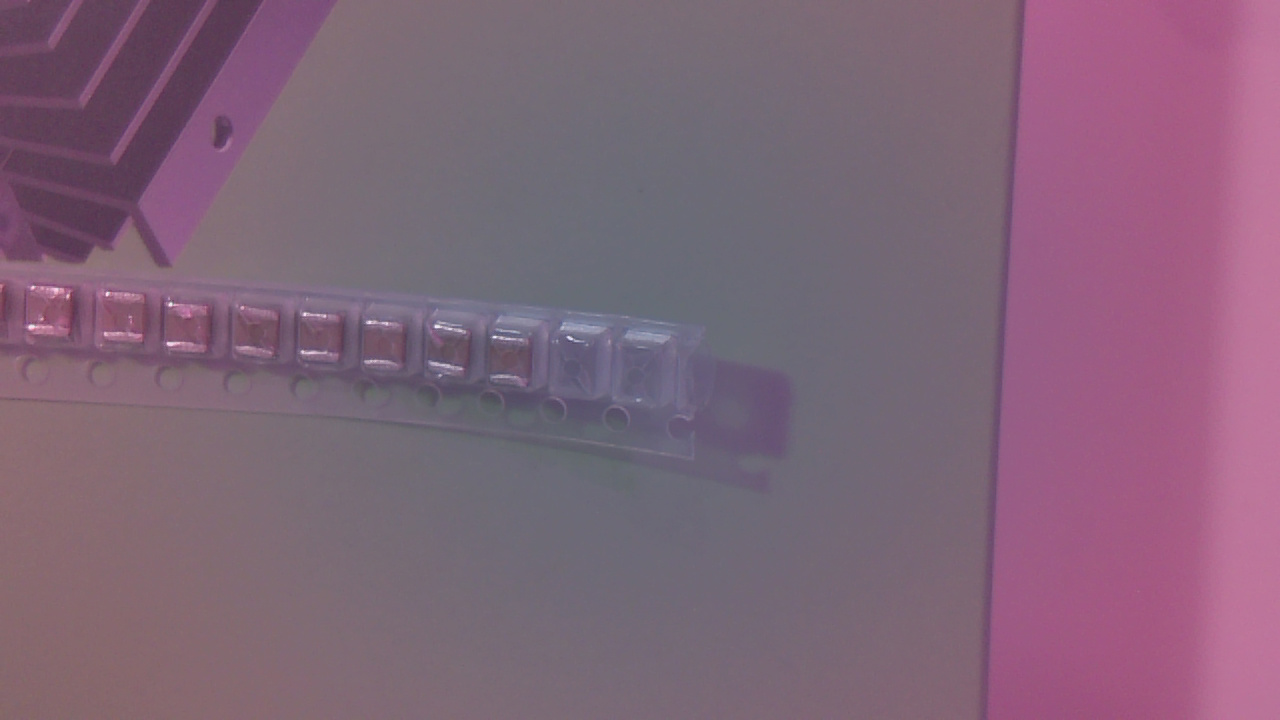Condensator: (30, 285, 82, 348), (239, 309, 288, 369), (302, 314, 349, 372), (169, 307, 218, 361), (432, 323, 476, 381), (106, 294, 150, 351), (368, 324, 415, 376), (492, 339, 536, 391)
